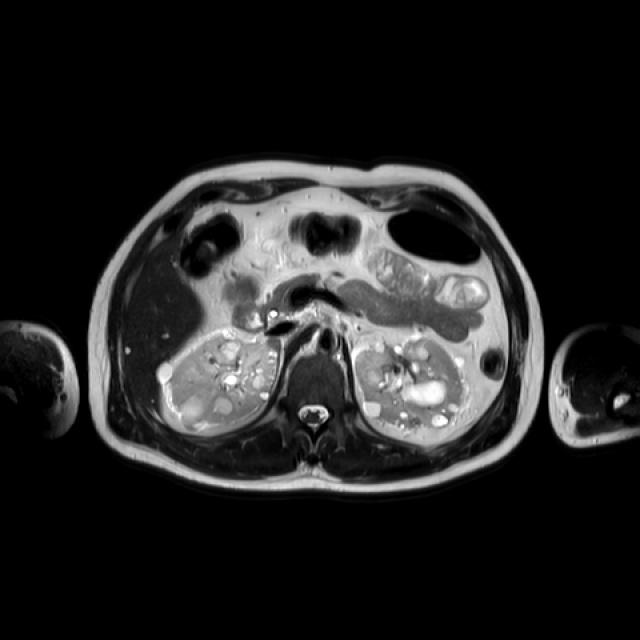sag: (156, 327, 279, 430)
sol: (354, 337, 466, 433)
